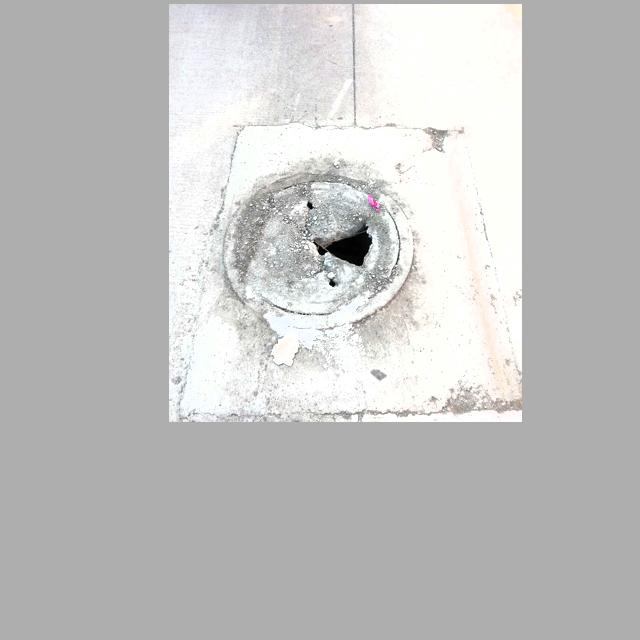broke: (222, 174, 413, 327)
